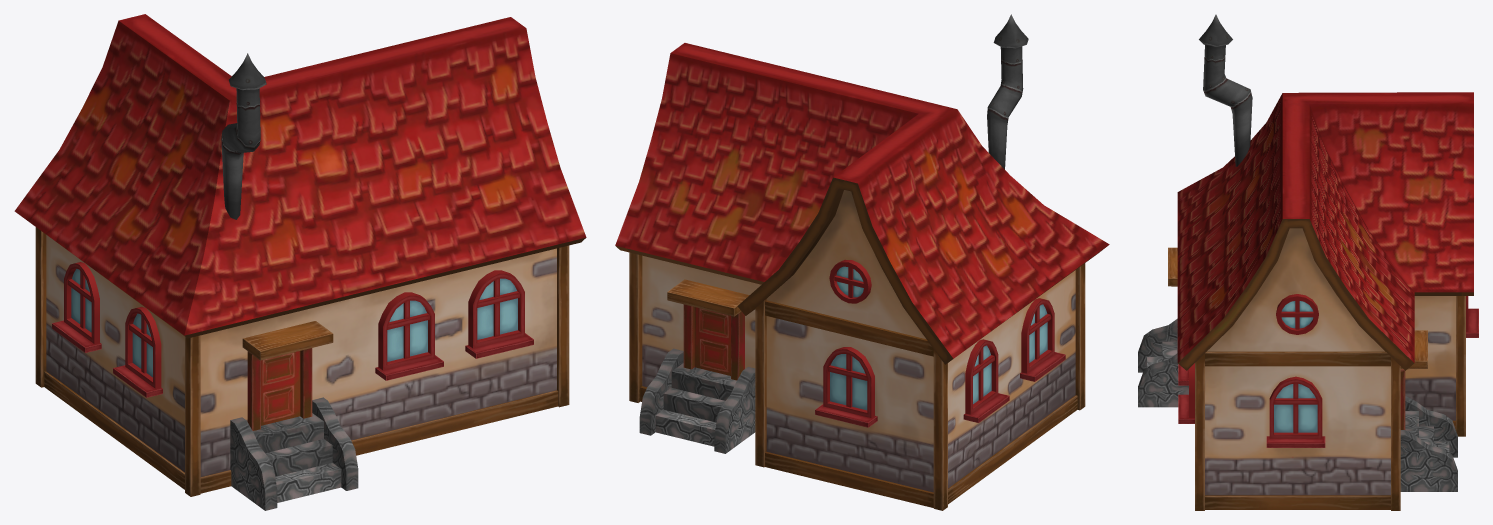
File: house.fbx
The picture shows the model from 3 angles, left to right: view 1: azimuth 30°, elevation 25°; view 2: azimuth 150°, elevation 25°; view 3: azimuth 270°, elevation 25°; orthographic projection. The views are drawn at different scales.
Visible parts, largest first — view 1: default002; view 2: default002; view 3: default002.
Boxes of the visible parts, left/top/right/bottom form: default002: left=14, top=14, right=586, bottom=510; default002: left=615, top=14, right=1109, bottom=510; default002: left=1138, top=14, right=1478, bottom=510.
Bounding box in the file's own units: 677 × 667 × 564.
1 material, 1 textured.
